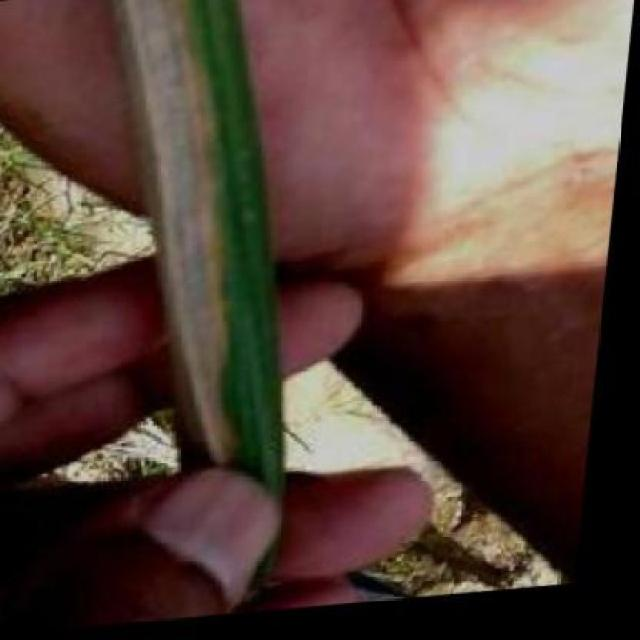Brown_Spot: (139, 34, 279, 528)
